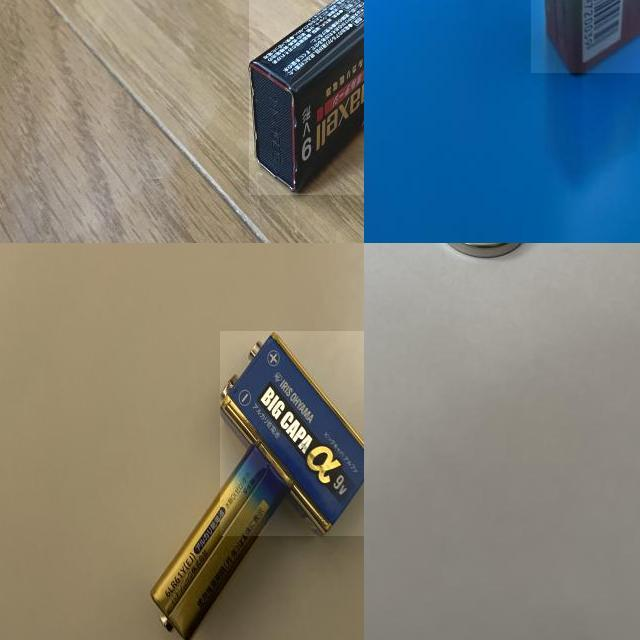9V: (220, 331, 364, 536), (149, 443, 292, 640), (249, 0, 364, 195)
